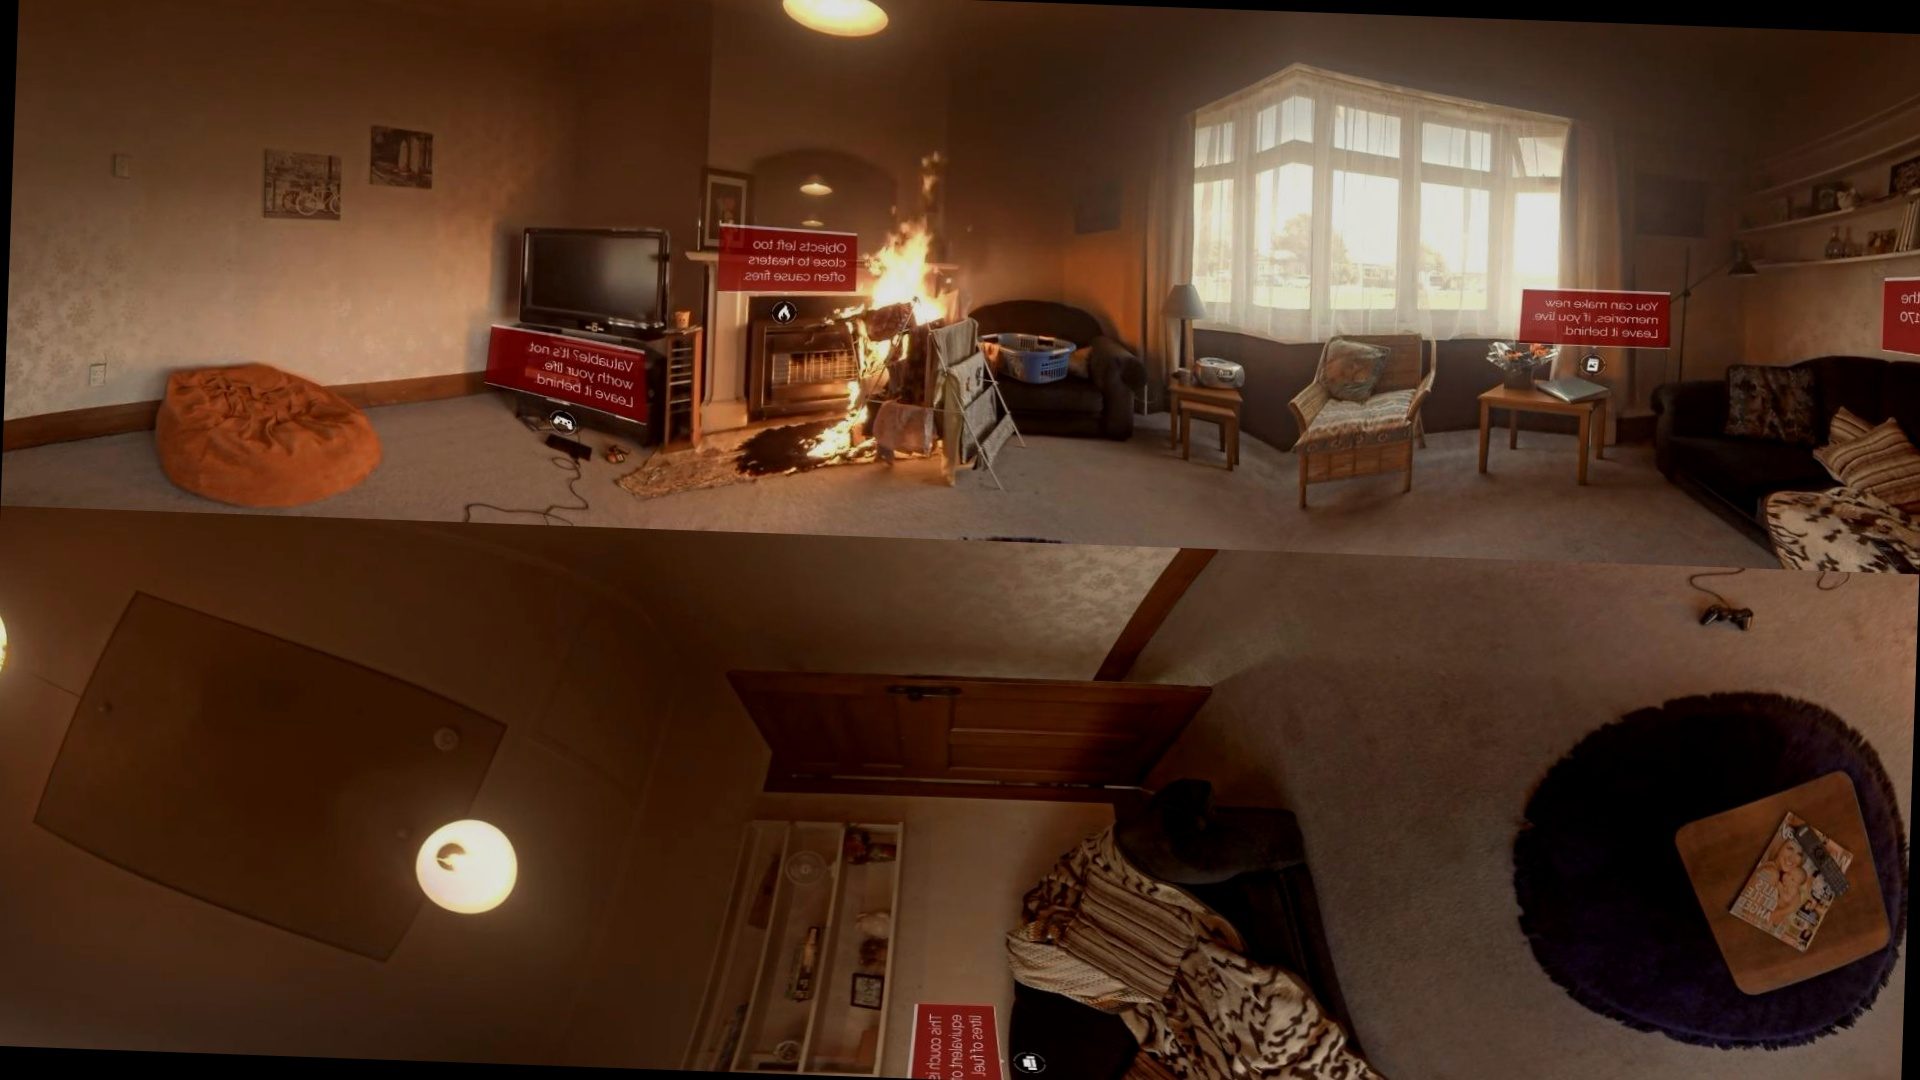fire: (824, 181, 993, 465)
